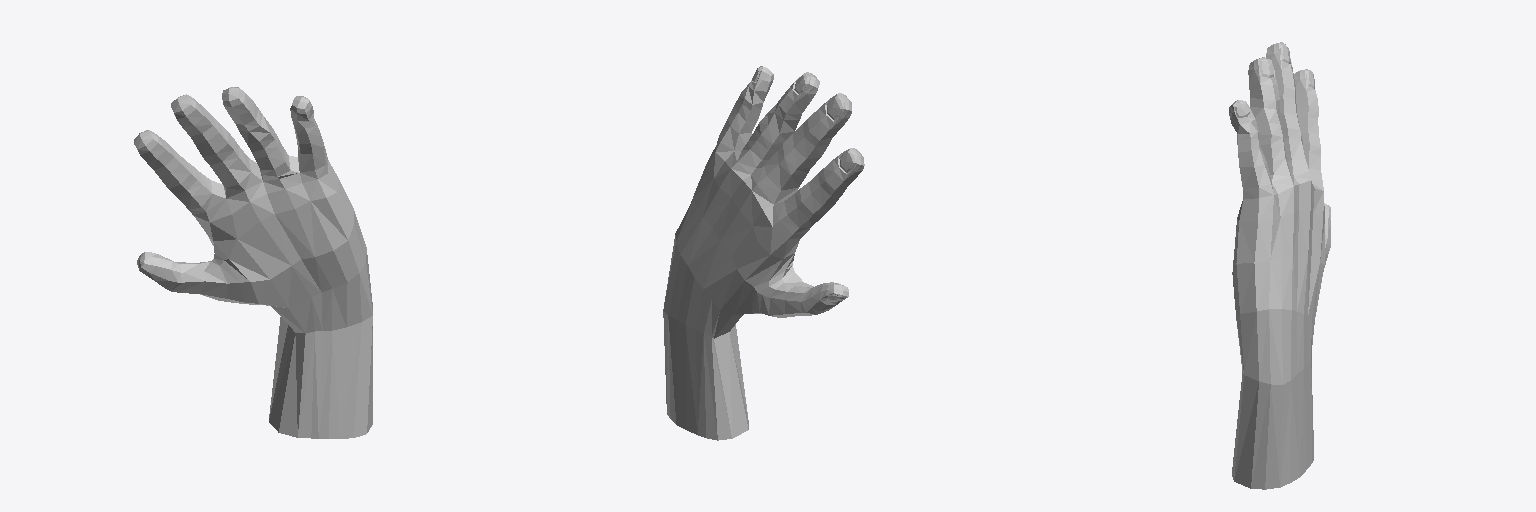
The model's file is handAnimated4_000113.obj.
3 views of the same model, side by side, from view 1: azimuth 30°, elevation 25°; view 2: azimuth 150°, elevation 25°; view 3: azimuth 270°, elevation 25° (orthographic).
Parts seen in each view (by area): view 1: Cube.000_Cube.017_Detached_Detached; view 2: Cube.000_Cube.017_Detached_Detached; view 3: Cube.000_Cube.017_Detached_Detached.
Boxes of the visible parts, <box> form: Cube.000_Cube.017_Detached_Detached: <box>134,87,372,438</box>; Cube.000_Cube.017_Detached_Detached: <box>663,66,864,440</box>; Cube.000_Cube.017_Detached_Detached: <box>1229,42,1330,489</box>.
Bounding box in the file's own units: 0.7483 × 1.22 × 0.3096.